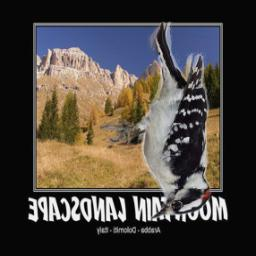Woodpecker: (100, 22, 213, 222)
